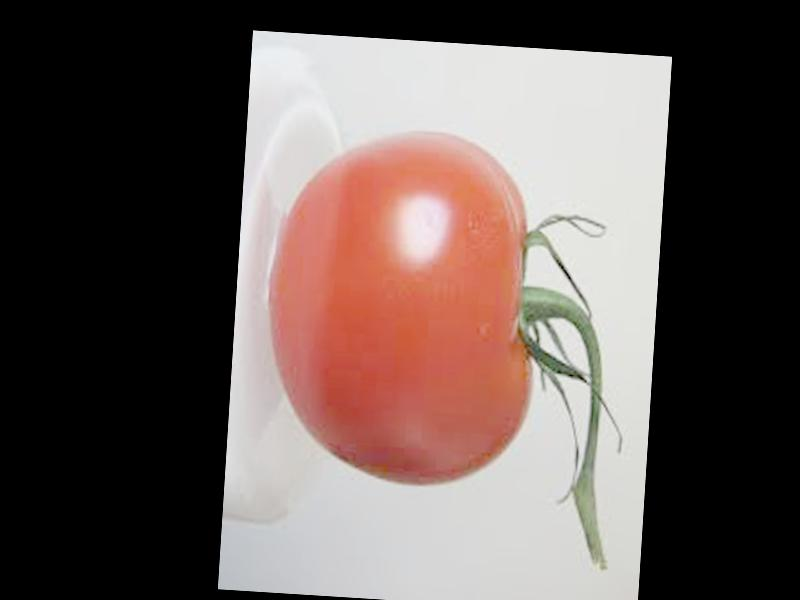Tomato: (258, 122, 547, 493)
